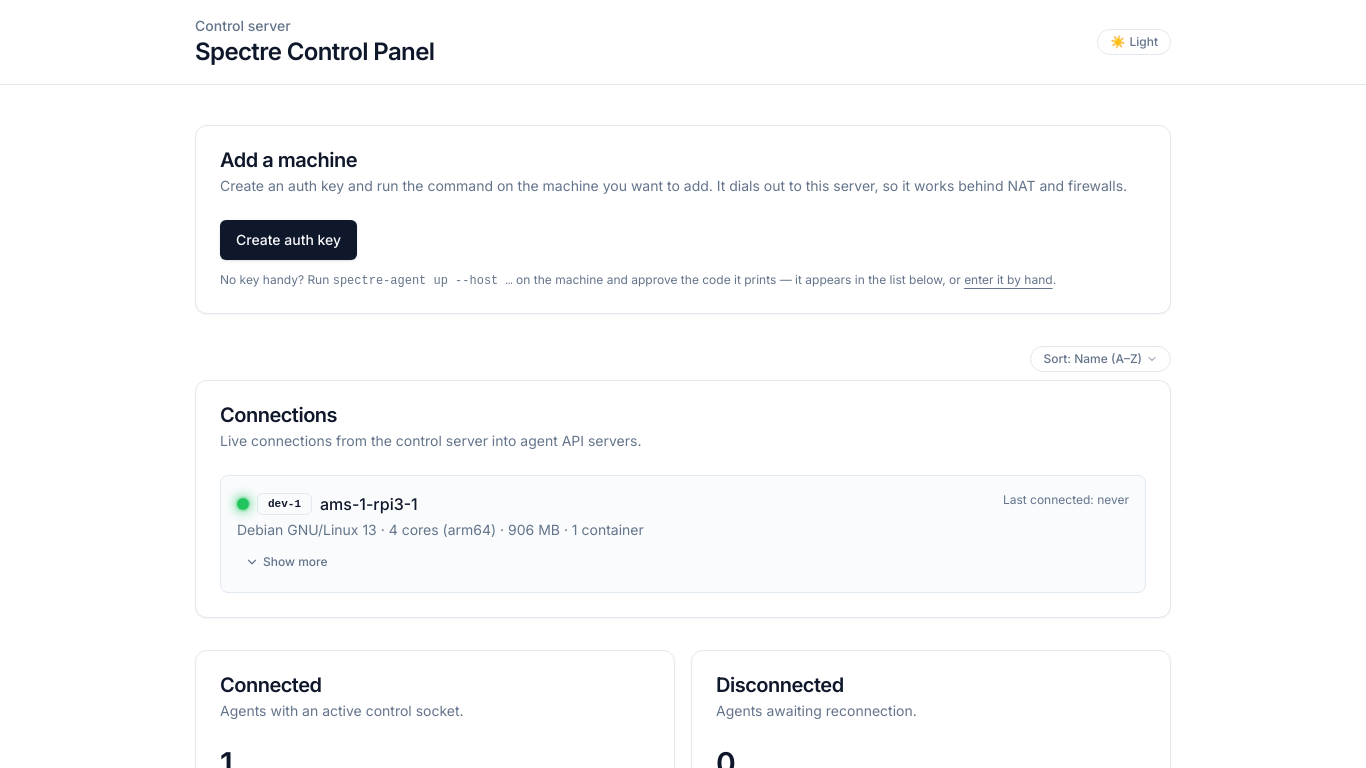
Test: AgentListItem › keeps a machine's inventory behind Show more
Expected: the text "ams-1-rpi3-1" is shown, left=320, top=492, right=418, bottom=516
Expected: the text "Debian GNU/Linux 13 · 4 cores (arm64) · 906 MB · 1 container" is shown, left=237, top=520, right=644, bottom=540
Click the button "Show more". click: (286, 562)
box: left=237, top=548, right=336, bottom=576
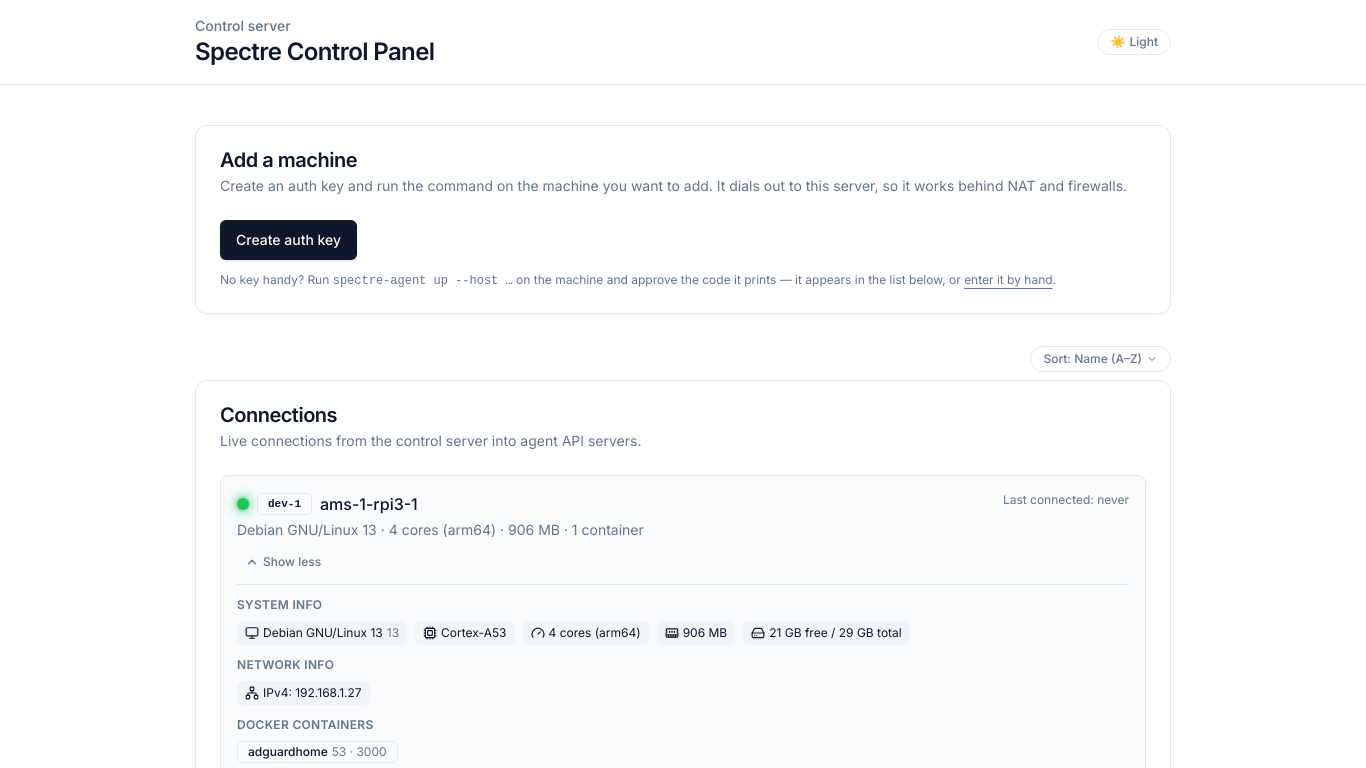
Expected: the text "Docker Containers" is shown, left=237, top=717, right=374, bottom=732
Expected: the text "adguardhome" is shown, left=248, top=744, right=328, bottom=760
Expected: the text "53 · 3000" is shown, left=332, top=744, right=387, bottom=760
Click the button "Show less". click: (283, 562)
box: left=237, top=548, right=329, bottom=576
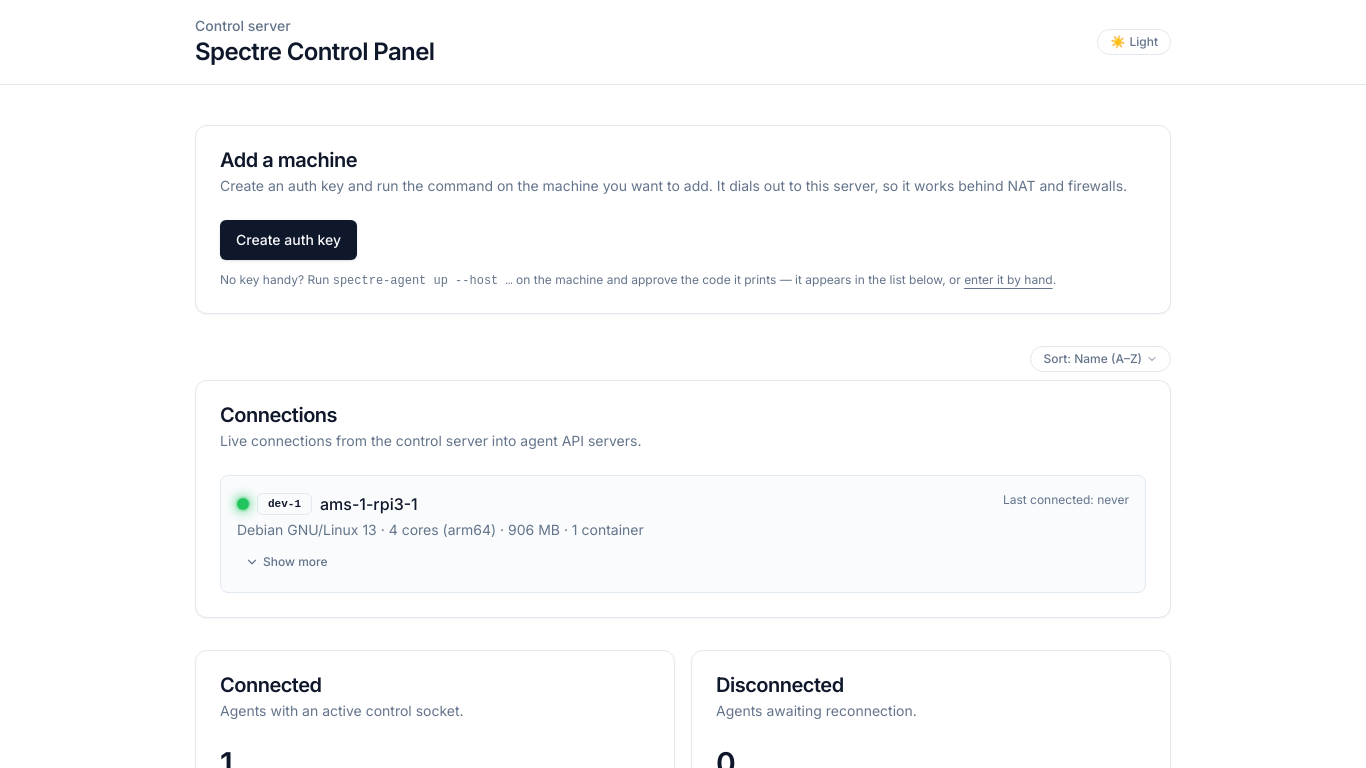
Expected: the text "adguardhome" is gone
